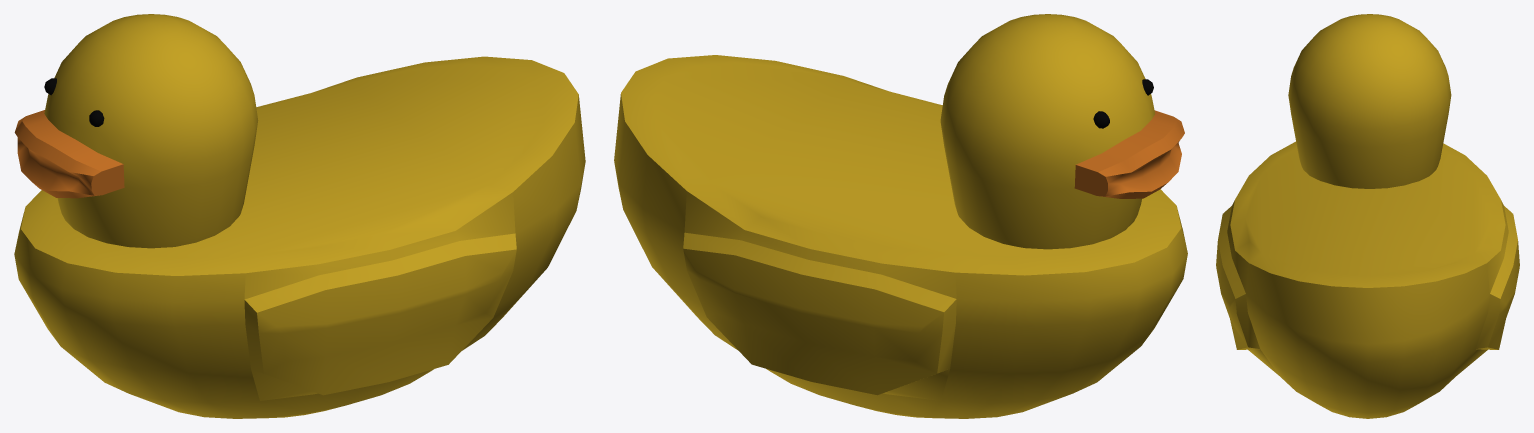
The model's file is Duck Textured.FBX.
The picture shows the model from 3 angles, left to right: view 1: azimuth 30°, elevation 25°; view 2: azimuth 150°, elevation 25°; view 3: azimuth 270°, elevation 25°; orthographic projection. The views are drawn at different scales.
Parts seen in each view (by area): view 1: Duck; view 2: Duck; view 3: Duck.
Part boxes in pixels (left/top/right/bottom): Duck: left=14, top=14, right=585, bottom=418; Duck: left=614, top=14, right=1187, bottom=418; Duck: left=1216, top=14, right=1519, bottom=418.
Size of the model in its own units: 1.39 by 1.01 by 0.8859.
3 materials, 3 textured.
